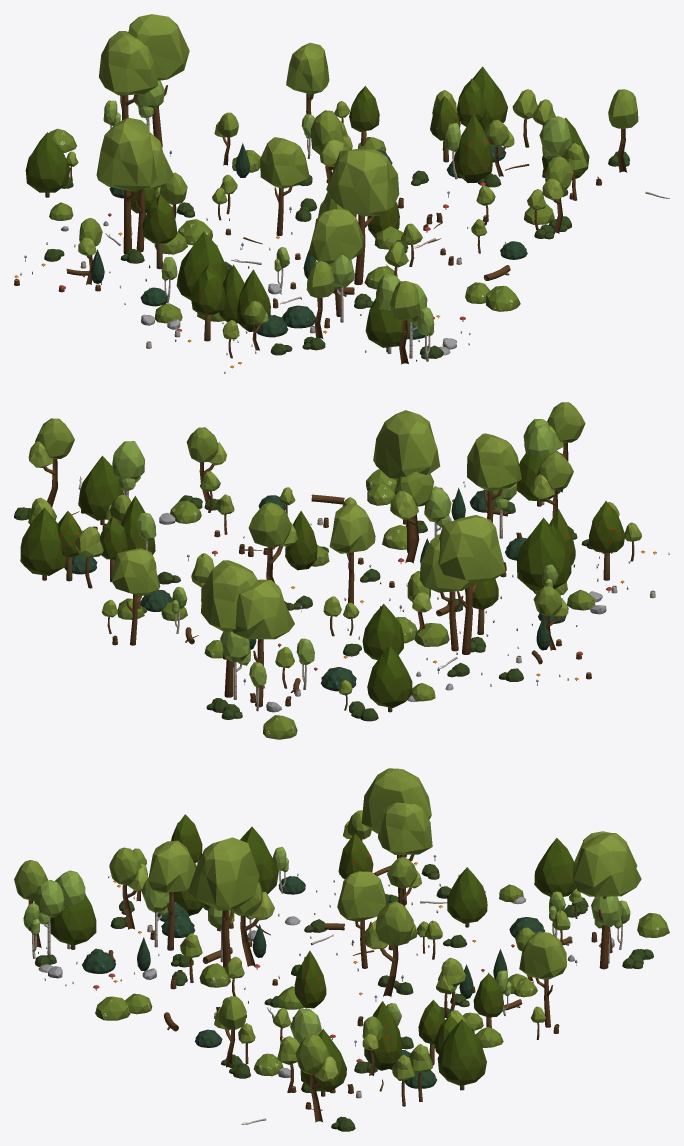
3 views of the same model, one above another, from view 1: azimuth 30°, elevation 25°; view 2: azimuth 150°, elevation 25°; view 3: azimuth 270°, elevation 25° (orthographic). The views are drawn at different scales.
Parts seen in each view (by area): view 1: Beechtree3 - copy.048, Beechtree3 - copy.019, Beechtree3 - copy.045, Beechtree3 - copy.038, Beechtree3 - copy.010, Beechtree3 - copy.049, Hollytree2 - copy.013, Beechtree3 - copy.028, Hollytree3 - copy.009, Hollytree2 - copy.029, Beechtree2 - copy.035, Hollytree1 - copy.016 (+29 smaller); view 2: Beechtree3 - copy.019, Beechtree3 - copy.048, Beechtree3 - copy.045, Beechtree3 - copy.038, Beechtree3 - copy.010, Hollytree2 - copy.029, Beechtree3 - copy.028, Hollytree2 - copy.039, Beechtree3 - copy.049, Hollytree2 - copy.013, Beechtree2 - copy.035, Beechtree2 - copy.072 (+29 smaller); view 3: Beechtree3 - copy.048, Beechtree3 - copy.038, Beechtree3 - copy.019, Beechtree3 - copy.032, Beechtree3 - copy.010, Hollytree2 - copy.039, Beechtree3 - copy.049, Beechtree3 - copy.028, Beechtree2 - copy.035, Hollytree2 - copy.013, Beechtree2 - copy.072, Hollytree2 - copy.023 (+28 smaller).
Part boxes in pixels (bbox=[...]): Beechtree3 - copy.048: bbox=[326, 149, 399, 284]; Beechtree3 - copy.019: bbox=[96, 117, 156, 254]; Beechtree3 - copy.045: bbox=[99, 31, 158, 120]; Beechtree3 - copy.038: bbox=[128, 14, 189, 147]; Beechtree3 - copy.010: bbox=[309, 209, 363, 316]; Beechtree3 - copy.049: bbox=[260, 137, 309, 235]; Hollytree2 - copy.013: bbox=[25, 132, 70, 197]; Beechtree3 - copy.028: bbox=[286, 42, 329, 138]; Hollytree3 - copy.009: bbox=[454, 113, 493, 182]; Hollytree2 - copy.029: bbox=[176, 231, 228, 300]; Beechtree2 - copy.035: bbox=[310, 110, 344, 183]; Hollytree1 - copy.016: bbox=[191, 264, 226, 341]; Beechtree3 - copy.019: bbox=[438, 515, 505, 654]; Beechtree3 - copy.048: bbox=[373, 410, 440, 552]; Beechtree3 - copy.045: bbox=[232, 579, 294, 707]; Beechtree3 - copy.038: bbox=[201, 560, 257, 697]; Beechtree3 - copy.010: bbox=[467, 433, 521, 522]; Hollytree2 - copy.029: bbox=[517, 517, 571, 590]; Beechtree3 - copy.028: bbox=[111, 548, 159, 645]; Hollytree2 - copy.039: bbox=[20, 507, 67, 580]; Beechtree3 - copy.049: bbox=[329, 504, 375, 603]; Hollytree2 - copy.013: bbox=[367, 646, 412, 712]; Beechtree2 - copy.035: bbox=[248, 502, 297, 582]; Beechtree2 - copy.072: bbox=[28, 418, 74, 507]; Beechtree3 - copy.048: bbox=[188, 837, 259, 967]; Beechtree3 - copy.038: bbox=[573, 833, 641, 969]; Beechtree3 - copy.019: bbox=[361, 768, 431, 904]; Beechtree3 - copy.032: bbox=[378, 802, 432, 906]; Beechtree3 - copy.010: bbox=[148, 840, 195, 950]; Hollytree2 - copy.039: bbox=[437, 1019, 486, 1090]; Beechtree3 - copy.049: bbox=[337, 871, 386, 968]; Beechtree3 - copy.028: bbox=[519, 931, 566, 1027]; Beechtree2 - copy.035: bbox=[364, 901, 413, 996]; Hollytree2 - copy.013: bbox=[534, 838, 576, 896]; Beechtree2 - copy.072: bbox=[295, 1034, 338, 1122]; Hollytree2 - copy.023: bbox=[447, 867, 487, 927].
Bounding box in the file's own units: 88.71 × 19.44 × 86.08.
33 materials, 33 textured.
